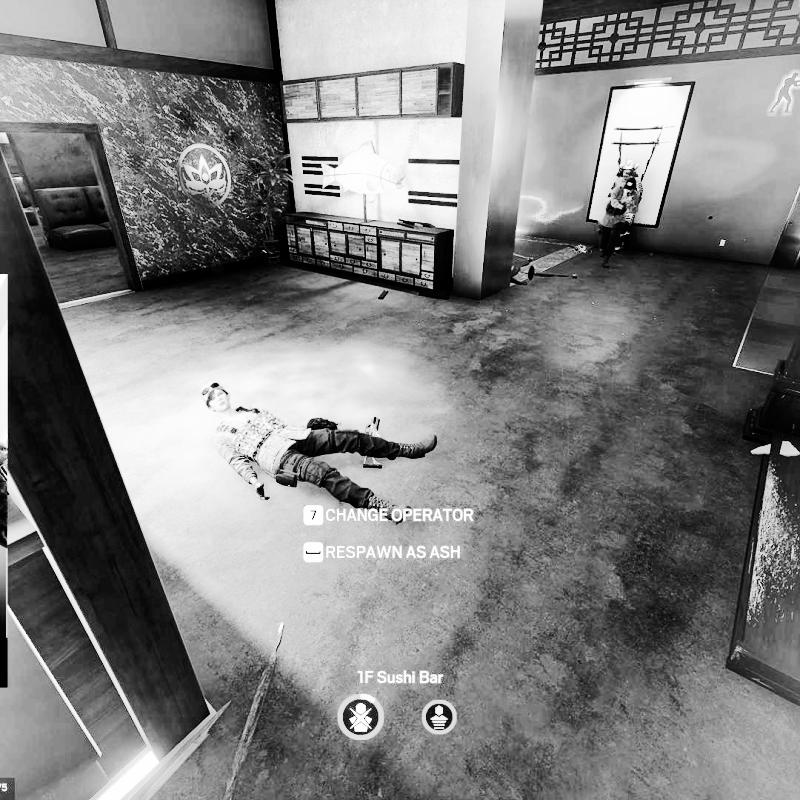Character: (201, 378, 441, 526), (596, 176, 644, 270)
Head: (202, 382, 233, 416), (625, 178, 636, 194)
